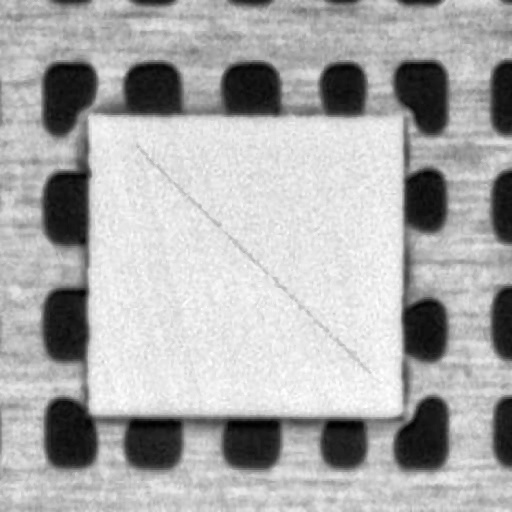DIE_CRACK: (178, 108, 488, 278)
